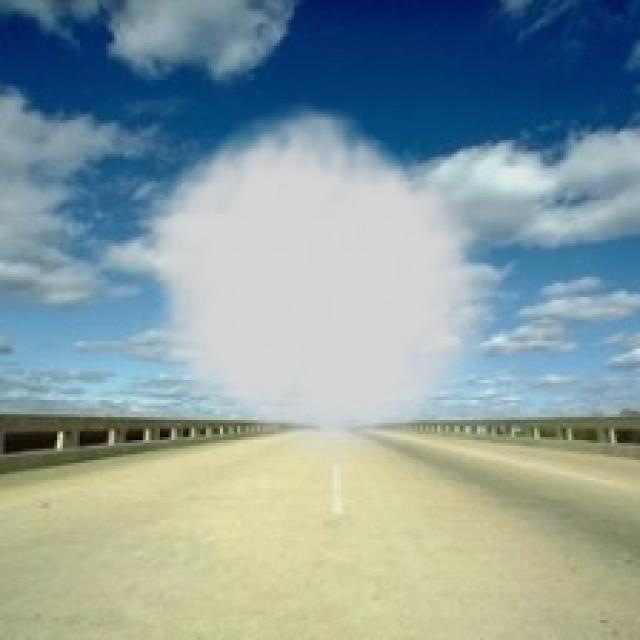smoke: (132, 92, 492, 477)
